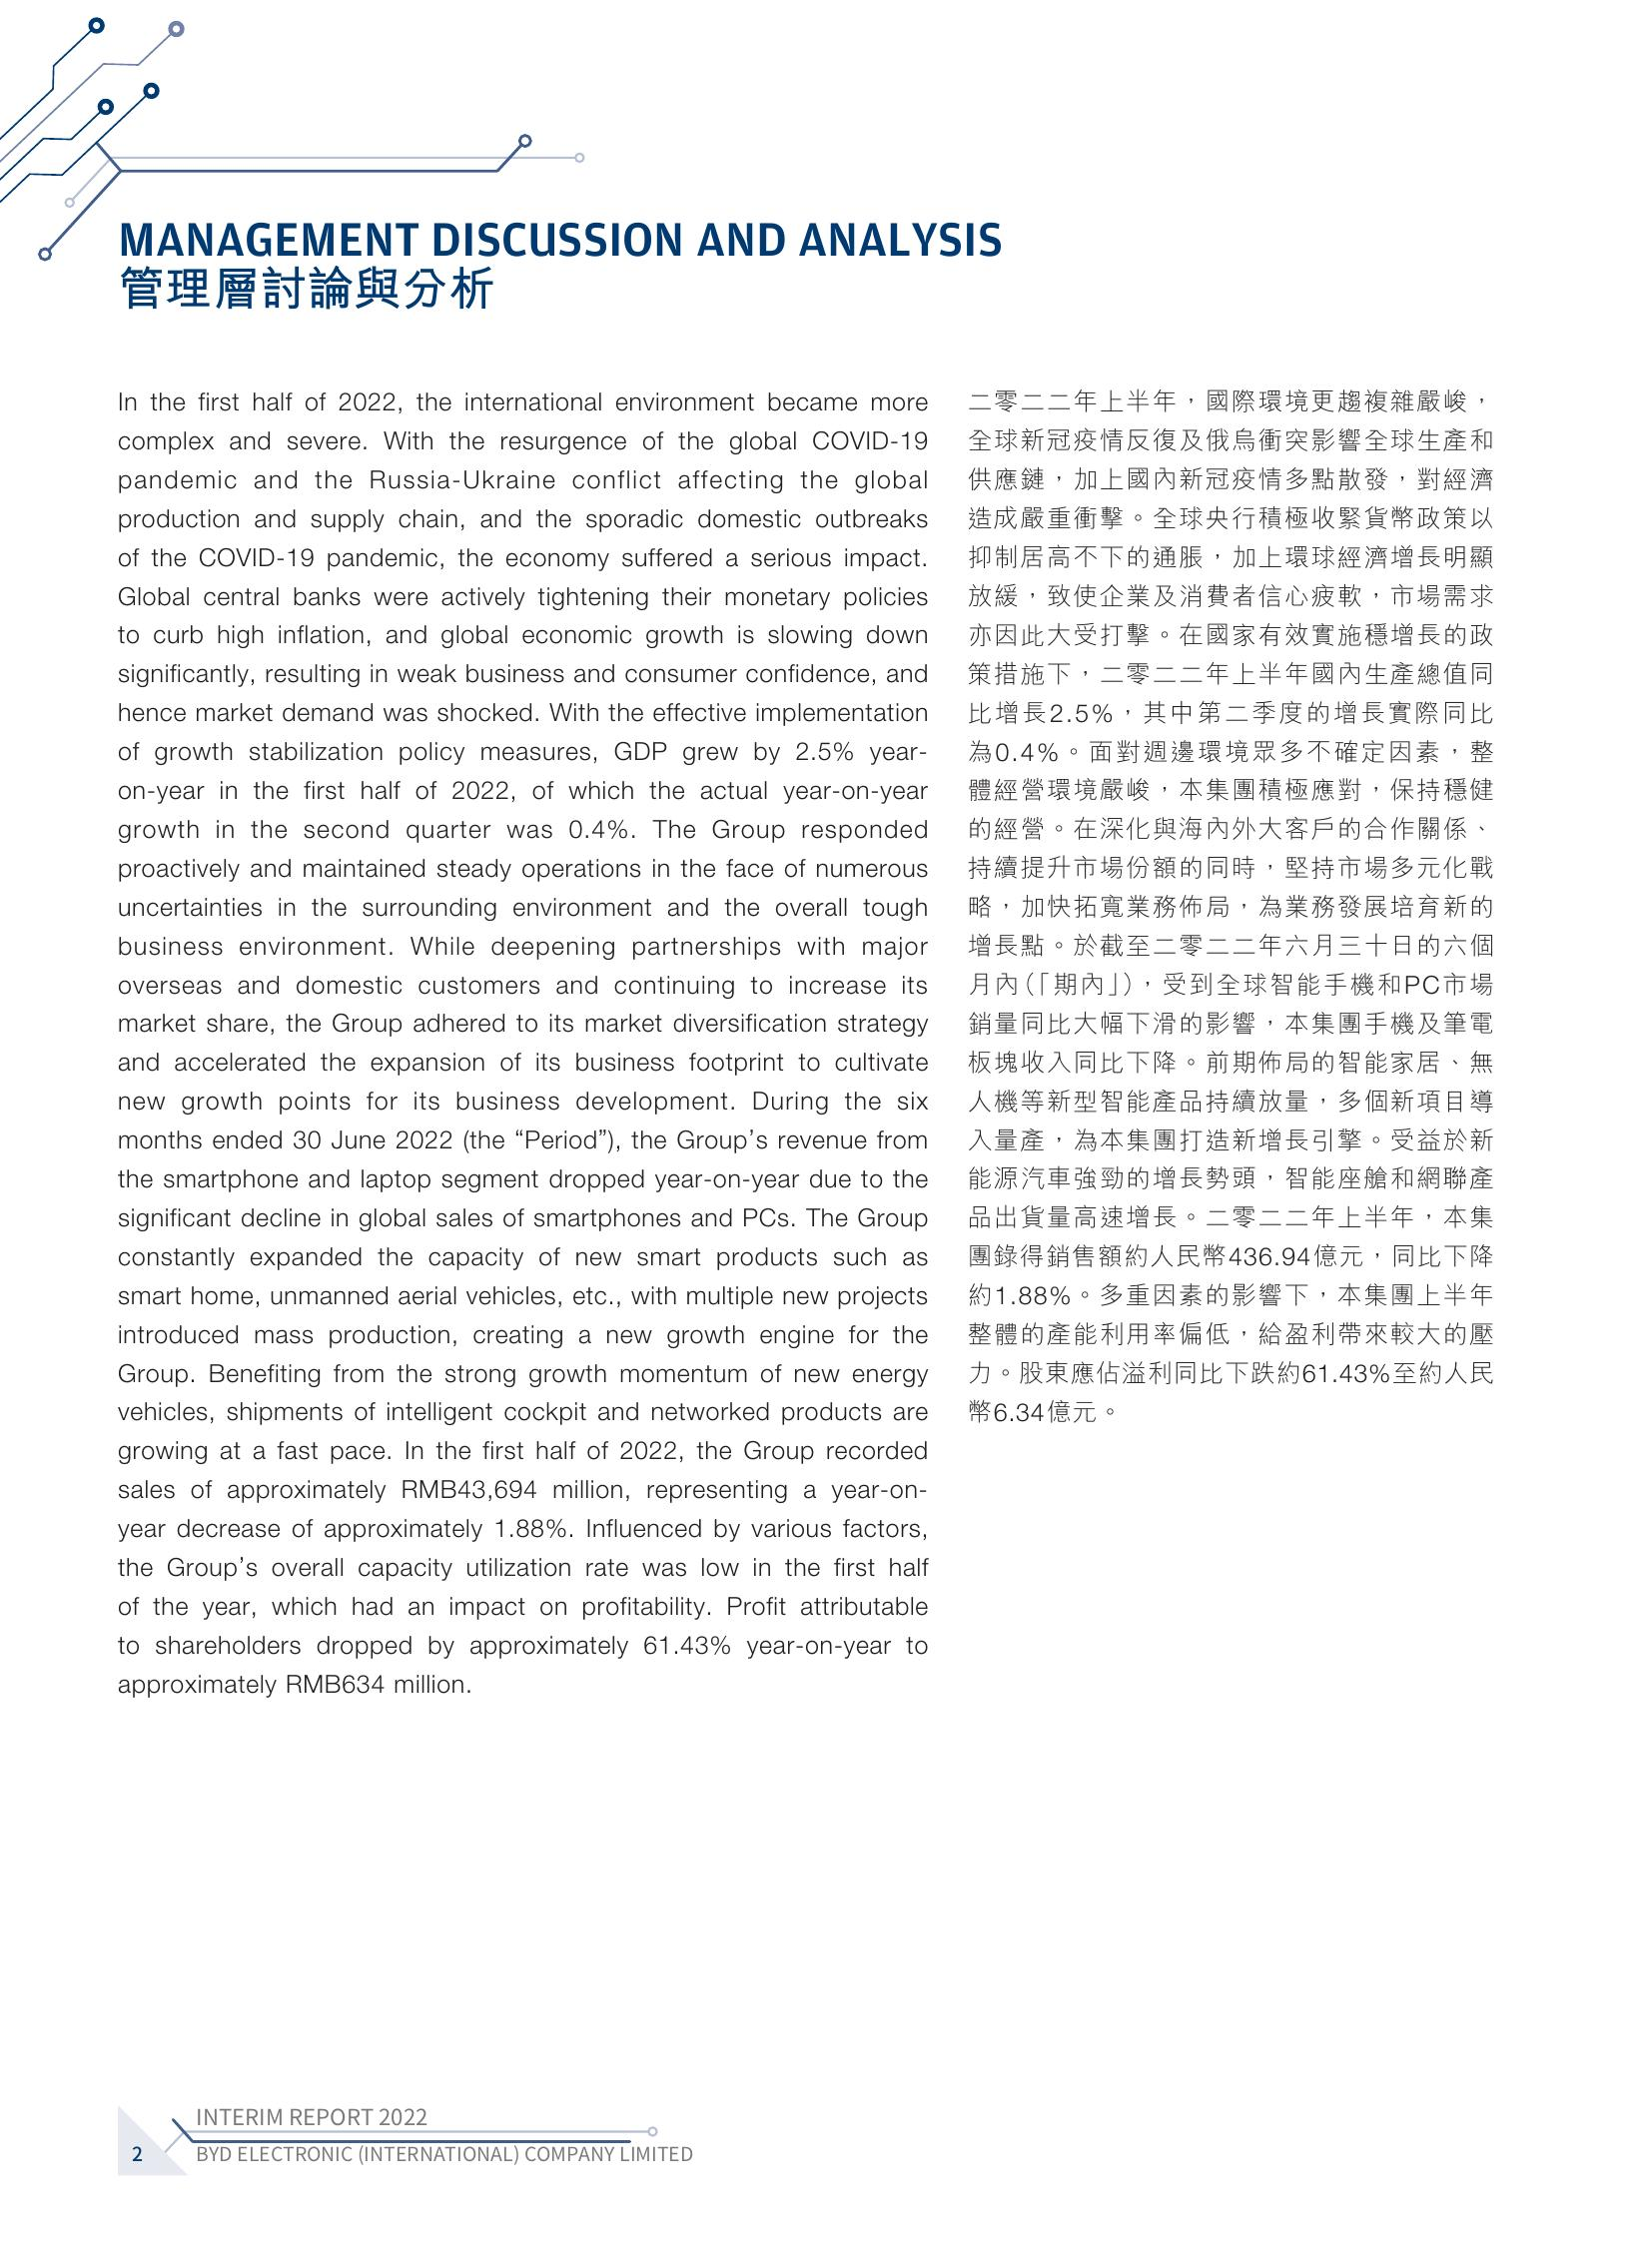Footer: (0, 2063, 1652, 2242)
Header: (0, 0, 1652, 188)
